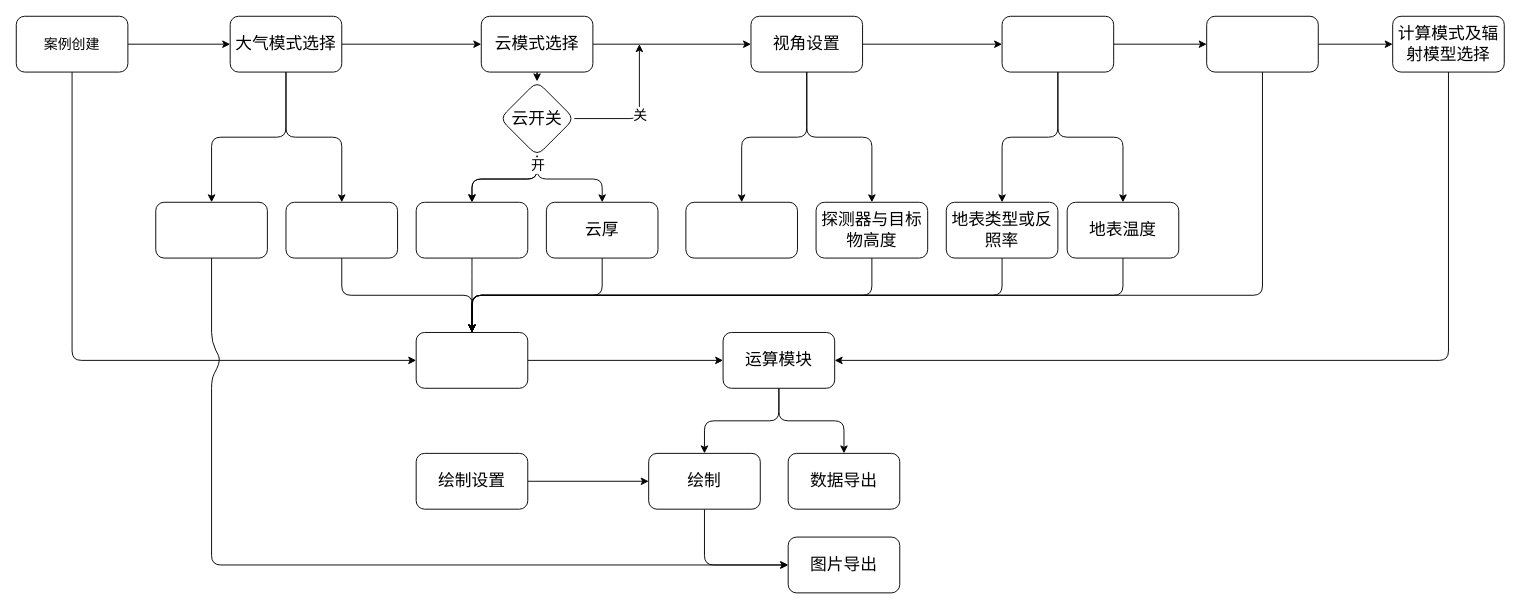
Some shapes in this 1521 by 609 pixel diagram are drawn without their labels. The box of each missing label's shape, as (x1, y1, x2, y2) in pixels:
云高: (415, 201, 528, 258)
参数及数据存放: (415, 332, 528, 388)
地表设置: (1001, 15, 1114, 72)
大气廓线展示: (155, 201, 267, 258)
波段及分辨率设置: (1206, 15, 1318, 72)
视角示意图展示: (685, 201, 797, 258)
读取大气状态与成分: (285, 201, 398, 258)
